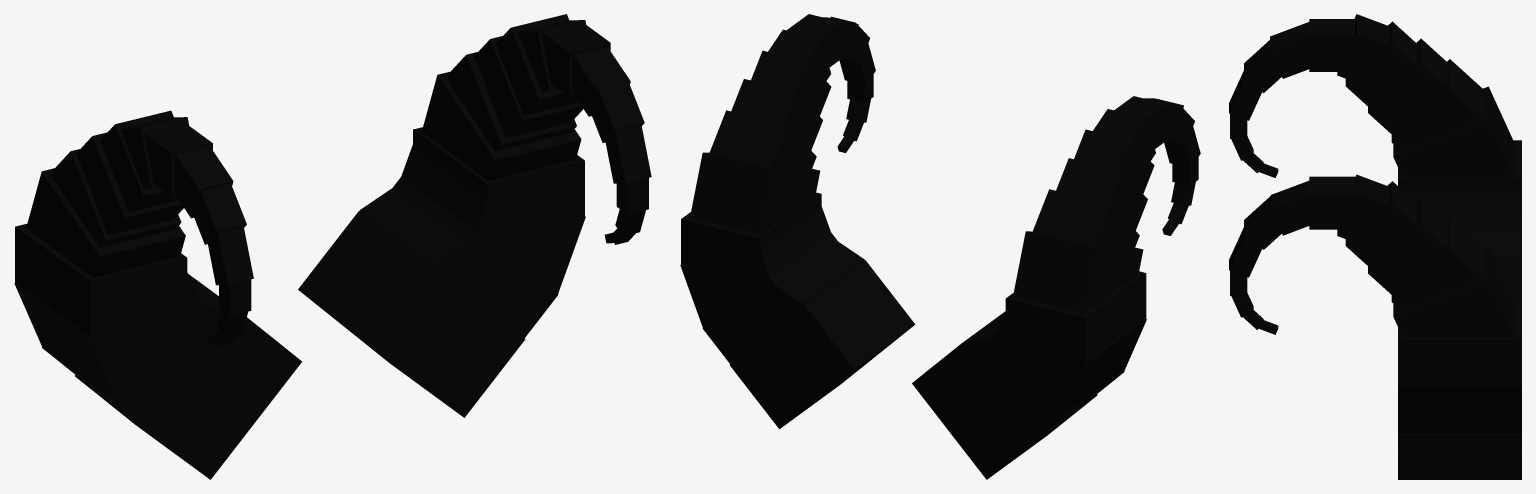
The model's file is halloween_horns_5.glb.
3 renders of one model, left to right at view 1: azimuth 30°, elevation 25°; view 2: azimuth 150°, elevation 25°; view 3: azimuth 270°, elevation 25°, orthographic. The views are drawn at different scales.
Visible parts, largest first — view 1: cube, cube.003, cube.018, cube.022, cube.021, cube.001, cube.023, cube.005, cube.004, cube.002, cube.020, cube.019 (+18 smaller); view 2: cube, cube.018, cube.021, cube.023, cube.005, cube.022, cube.003, cube.002, cube.004, cube.001, cube.006, cube.024 (+13 smaller); view 3: cube.004, cube.003, cube.005, cube.023, cube.024, cube, cube.006, cube.007, cube.025, cube.026, cube.008, cube.021 (+19 smaller).
Part boxes in pixels (left/top/right/bottom): cube: left=298, top=211, right=525, bottom=417; cube.003: left=401, top=144, right=585, bottom=294; cube.018: left=75, top=274, right=302, bottom=479; cube.022: left=15, top=224, right=187, bottom=337; cube.021: left=14, top=272, right=198, bottom=401; cube.001: left=359, top=188, right=514, bottom=370; cube.023: left=26, top=168, right=185, bottom=277; cube.005: left=421, top=72, right=581, bottom=180; cube.004: left=413, top=127, right=584, bottom=239; cube.002: left=392, top=176, right=558, bottom=338; cube.020: left=42, top=298, right=217, bottom=430; cube.019: left=160, top=274, right=228, bottom=440; cube: left=730, top=260, right=915, bottom=428; cube.018: left=912, top=312, right=1097, bottom=479; cube.021: left=983, top=310, right=1146, bottom=415; cube.023: left=1013, top=231, right=1143, bottom=313; cube.005: left=690, top=152, right=820, bottom=234; cube.022: left=1005, top=271, right=1146, bottom=363; cube.003: left=680, top=206, right=830, bottom=327; cube.002: left=702, top=232, right=837, bottom=365; cube.004: left=681, top=192, right=821, bottom=283; cube.001: left=738, top=241, right=864, bottom=390; cube.006: left=709, top=110, right=816, bottom=169; cube.024: left=1032, top=189, right=1139, bottom=248; cube.004: left=1398, top=301, right=1521, bottom=386; cube.003: left=1398, top=386, right=1521, bottom=433; cube.005: left=1393, top=246, right=1514, bottom=337; cube.023: left=1393, top=86, right=1514, bottom=177; cube.024: left=1391, top=59, right=1484, bottom=151; cube: left=1398, top=450, right=1521, bottom=479; cube.006: left=1391, top=219, right=1484, bottom=310; cube.007: left=1368, top=199, right=1447, bottom=297; cube.025: left=1368, top=38, right=1447, bottom=136; cube.026: left=1345, top=21, right=1417, bottom=108; cube.008: left=1345, top=181, right=1417, bottom=268; cube.021: left=1404, top=191, right=1521, bottom=220.
Size of the model in its own units: 1.44 by 1.09 by 0.8872.
Materials: 1 (1 with a texture image).
